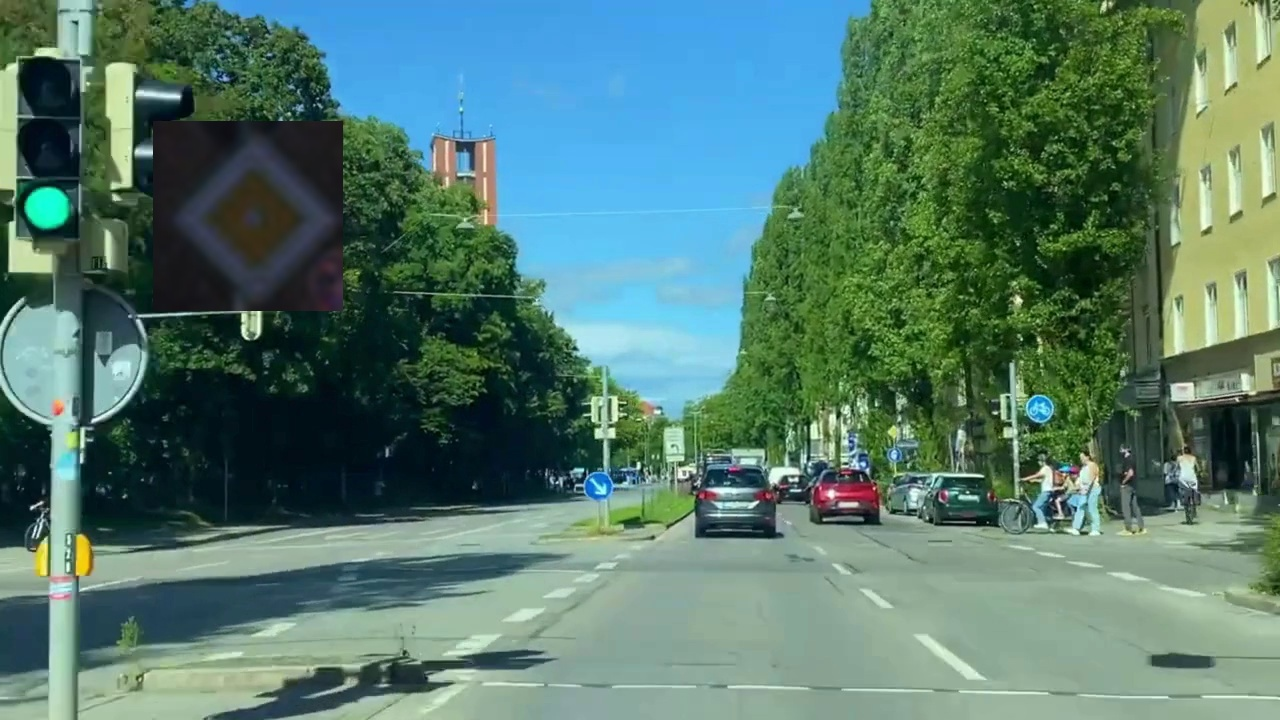Priority road: (153, 121, 343, 311)
